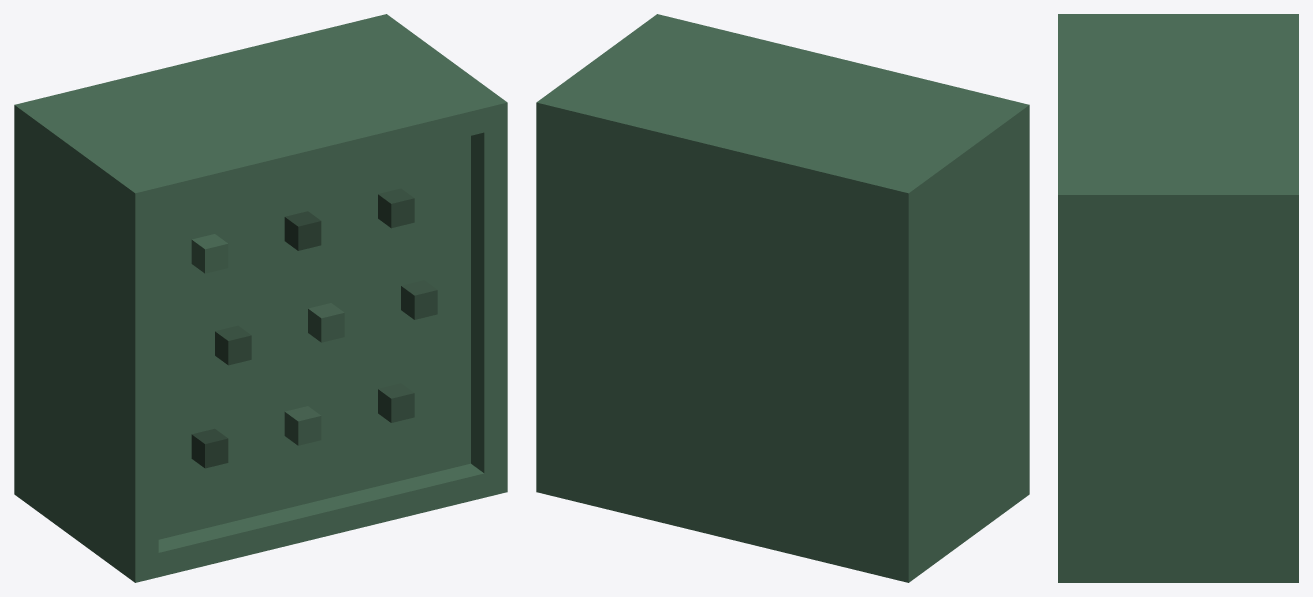
The model's file is wall_new_1.obj.
The picture shows the model from 3 angles, left to right: view 1: azimuth 30°, elevation 25°; view 2: azimuth 150°, elevation 25°; view 3: azimuth 270°, elevation 25°; orthographic projection.
Bounding box in the file's own units: 16 × 16 × 9.
1 material, 1 textured.
